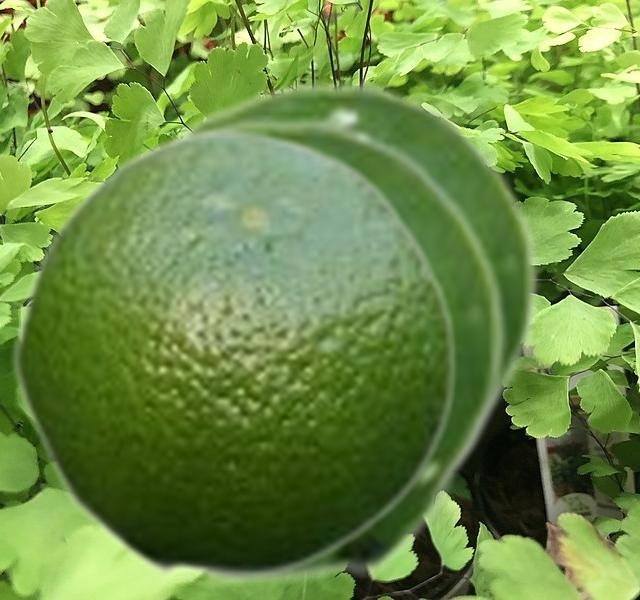calamansi: (73, 115, 508, 587), (9, 124, 458, 578), (172, 79, 541, 479)
